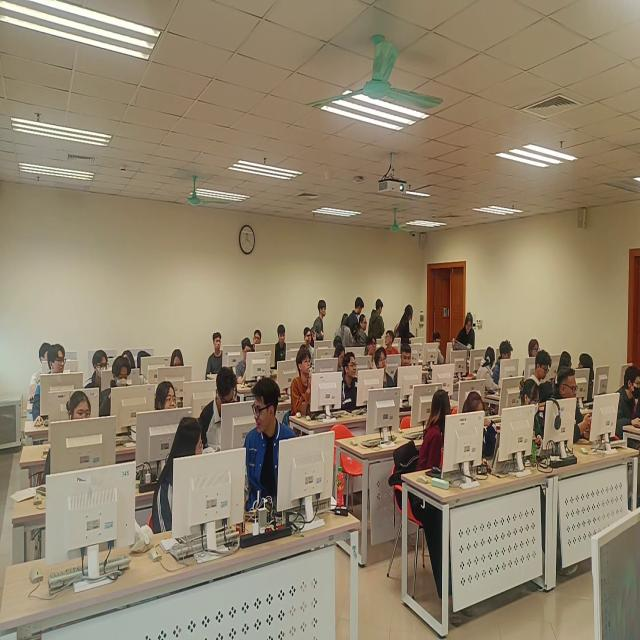raise_head: (144, 383, 186, 440), (290, 349, 322, 418), (341, 351, 363, 411), (375, 346, 399, 401), (274, 323, 291, 370), (523, 339, 542, 372), (302, 328, 319, 353), (367, 335, 379, 363)
stand: (454, 310, 478, 370), (396, 303, 414, 351), (313, 298, 327, 350), (369, 298, 384, 344)
using_computer: (555, 369, 614, 459), (44, 393, 99, 486), (462, 389, 511, 478), (200, 372, 244, 459), (515, 377, 556, 466), (99, 359, 141, 434), (613, 364, 640, 441), (234, 337, 265, 391), (495, 341, 526, 389), (206, 332, 236, 379), (531, 348, 563, 387), (85, 352, 112, 398), (399, 345, 421, 395), (429, 330, 450, 373), (169, 348, 188, 385), (334, 344, 348, 375)
